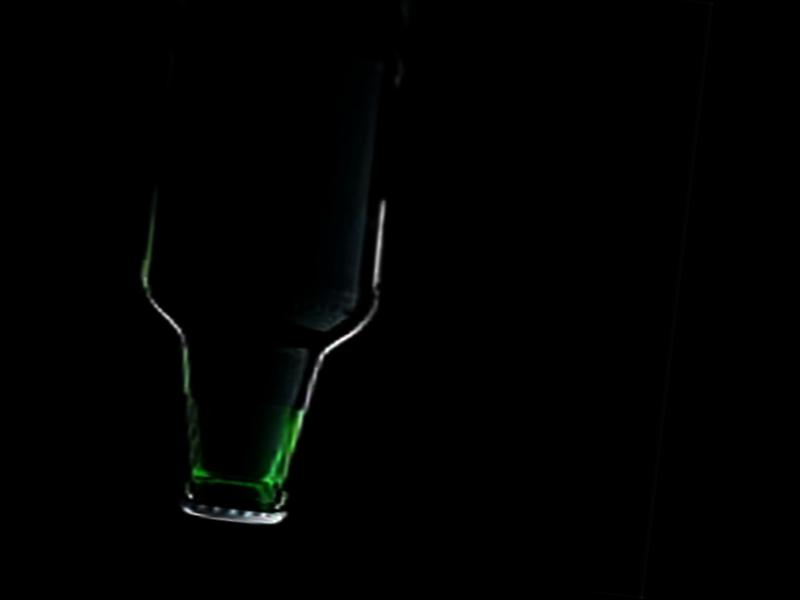Beer: (112, 23, 417, 538)
